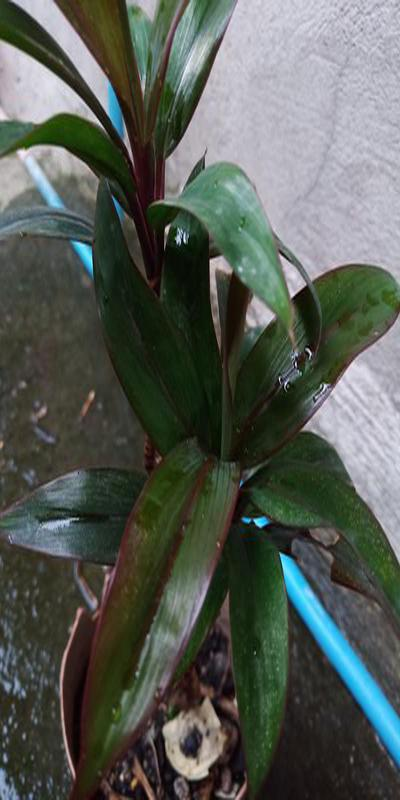Baston de san jose: (54, 56, 378, 768)
